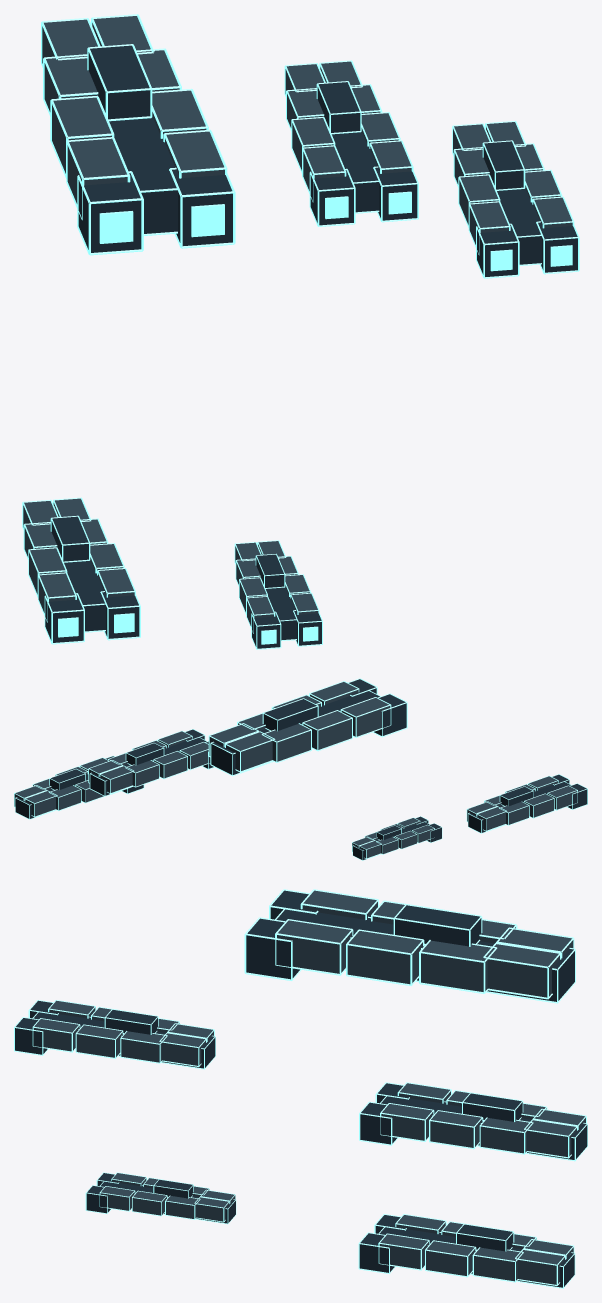
Rendered from blue_fleet.glb.
3 views of the same model, one above another, from view 1: azimuth 30°, elevation 25°; view 2: azimuth 150°, elevation 25°; view 3: azimuth 270°, elevation 25° (orthographic). The views are drawn at different scales.
Visible parts, largest first — view 1: BluePatrol_01_ROOT | blue physical edge accents, BluePatrol_01_ROOT | central keel, BluePatrol_02_ROOT | blue physical edge accents, BluePatrol_01_ROOT | bridge, BluePatrol_05_ROOT | blue physical edge accents, BluePatrol_01_ROOT | rear drive pod, BluePatrol_03_ROOT | blue physical edge accents, BluePatrol_01_ROOT | rear drive pod.001, BluePatrol_01_ROOT | segmented armor, BluePatrol_01_ROOT | segmented armor.001, BluePatrol_02_ROOT | central keel, BluePatrol_05_ROOT | central keel (+32 smaller); view 2: BluePatrol_01_ROOT | blue physical edge accents, BluePatrol_02_ROOT | blue physical edge accents, BluePatrol_01_ROOT | segmented armor.001, BluePatrol_01_ROOT | central keel, BluePatrol_01_ROOT | segmented armor.003, BluePatrol_01_ROOT | segmented armor.002, BluePatrol_01_ROOT | bridge, BluePatrol_03_ROOT | blue physical edge accents, BluePatrol_01_ROOT | segmented armor, BluePatrol_05_ROOT | blue physical edge accents, BluePatrol_01_ROOT | rear drive pod, BluePatrol_04_ROOT | blue physical edge accents (+24 smaller); view 3: BluePatrol_01_ROOT | blue physical edge accents, BluePatrol_01_ROOT | segmented armor.005, BluePatrol_01_ROOT | segmented armor.007, BluePatrol_01_ROOT | segmented armor.006, BluePatrol_02_ROOT | blue physical edge accents, BluePatrol_01_ROOT | segmented armor.004, BluePatrol_01_ROOT | bridge, BluePatrol_05_ROOT | blue physical edge accents, BluePatrol_01_ROOT | central keel, BluePatrol_03_ROOT | blue physical edge accents, BluePatrol_01_ROOT | rear drive pod.001, BluePatrol_02_ROOT | segmented armor.005 (+33 smaller).
Part boxes in pixels (left/top/right/bottom): BluePatrol_01_ROOT | blue physical edge accents: left=41, top=14, right=235, bottom=255; BluePatrol_01_ROOT | central keel: left=109, top=116, right=177, bottom=233; BluePatrol_02_ROOT | blue physical edge accents: left=284, top=60, right=418, bottom=226; BluePatrol_01_ROOT | bridge: left=88, top=45, right=150, bottom=119; BluePatrol_05_ROOT | blue physical edge accents: left=452, top=120, right=579, bottom=278; BluePatrol_01_ROOT | rear drive pod: left=78, top=173, right=141, bottom=252; BluePatrol_03_ROOT | blue physical edge accents: left=22, top=497, right=140, bottom=644; BluePatrol_01_ROOT | rear drive pod.001: left=172, top=169, right=232, bottom=245; BluePatrol_01_ROOT | segmented armor: left=67, top=138, right=127, bottom=203; BluePatrol_01_ROOT | segmented armor.001: left=52, top=97, right=111, bottom=173; BluePatrol_02_ROOT | central keel: left=332, top=131, right=379, bottom=212; BluePatrol_05_ROOT | central keel: left=497, top=188, right=541, bottom=264; BluePatrol_01_ROOT | blue physical edge accents: left=208, top=678, right=407, bottom=776; BluePatrol_02_ROOT | blue physical edge accents: left=88, top=729, right=214, bottom=796; BluePatrol_01_ROOT | segmented armor.001: left=303, top=711, right=351, bottom=749; BluePatrol_01_ROOT | central keel: left=211, top=691, right=379, bottom=774; BluePatrol_01_ROOT | segmented armor.003: left=226, top=732, right=272, bottom=770; BluePatrol_01_ROOT | segmented armor.002: left=264, top=724, right=310, bottom=761; BluePatrol_01_ROOT | bridge: left=263, top=699, right=317, bottom=730; BluePatrol_03_ROOT | blue physical edge accents: left=466, top=774, right=587, bottom=833; BluePatrol_01_ROOT | segmented armor: left=341, top=698, right=390, bottom=736; BluePatrol_05_ROOT | blue physical edge accents: left=14, top=755, right=144, bottom=819; BluePatrol_01_ROOT | rear drive pod: left=374, top=694, right=406, bottom=735; BluePatrol_04_ROOT | blue physical edge accents: left=352, top=816, right=442, bottom=860; BluePatrol_01_ROOT | blue physical edge accents: left=244, top=889, right=575, bottom=1003; BluePatrol_01_ROOT | segmented armor.005: left=347, top=931, right=422, bottom=984; BluePatrol_01_ROOT | segmented armor.007: left=485, top=944, right=559, bottom=997; BluePatrol_01_ROOT | segmented armor.006: left=421, top=940, right=494, bottom=991; BluePatrol_02_ROOT | blue physical edge accents: left=359, top=1082, right=587, bottom=1161; BluePatrol_01_ROOT | segmented armor.004: left=277, top=920, right=352, bottom=973; BluePatrol_01_ROOT | bridge: left=395, top=905, right=481, bottom=946; BluePatrol_05_ROOT | blue physical edge accents: left=358, top=1214, right=575, bottom=1288; BluePatrol_01_ROOT | central keel: left=276, top=909, right=574, bottom=1001; BluePatrol_03_ROOT | blue physical edge accents: left=14, top=1000, right=215, bottom=1069; BluePatrol_01_ROOT | rear drive pod.001: left=246, top=918, right=299, bottom=979; BluePatrol_02_ROOT | segmented armor.005: left=430, top=1111, right=482, bottom=1147.
Size of the model in its own units: 7.26 by 3.45 by 5.89.
